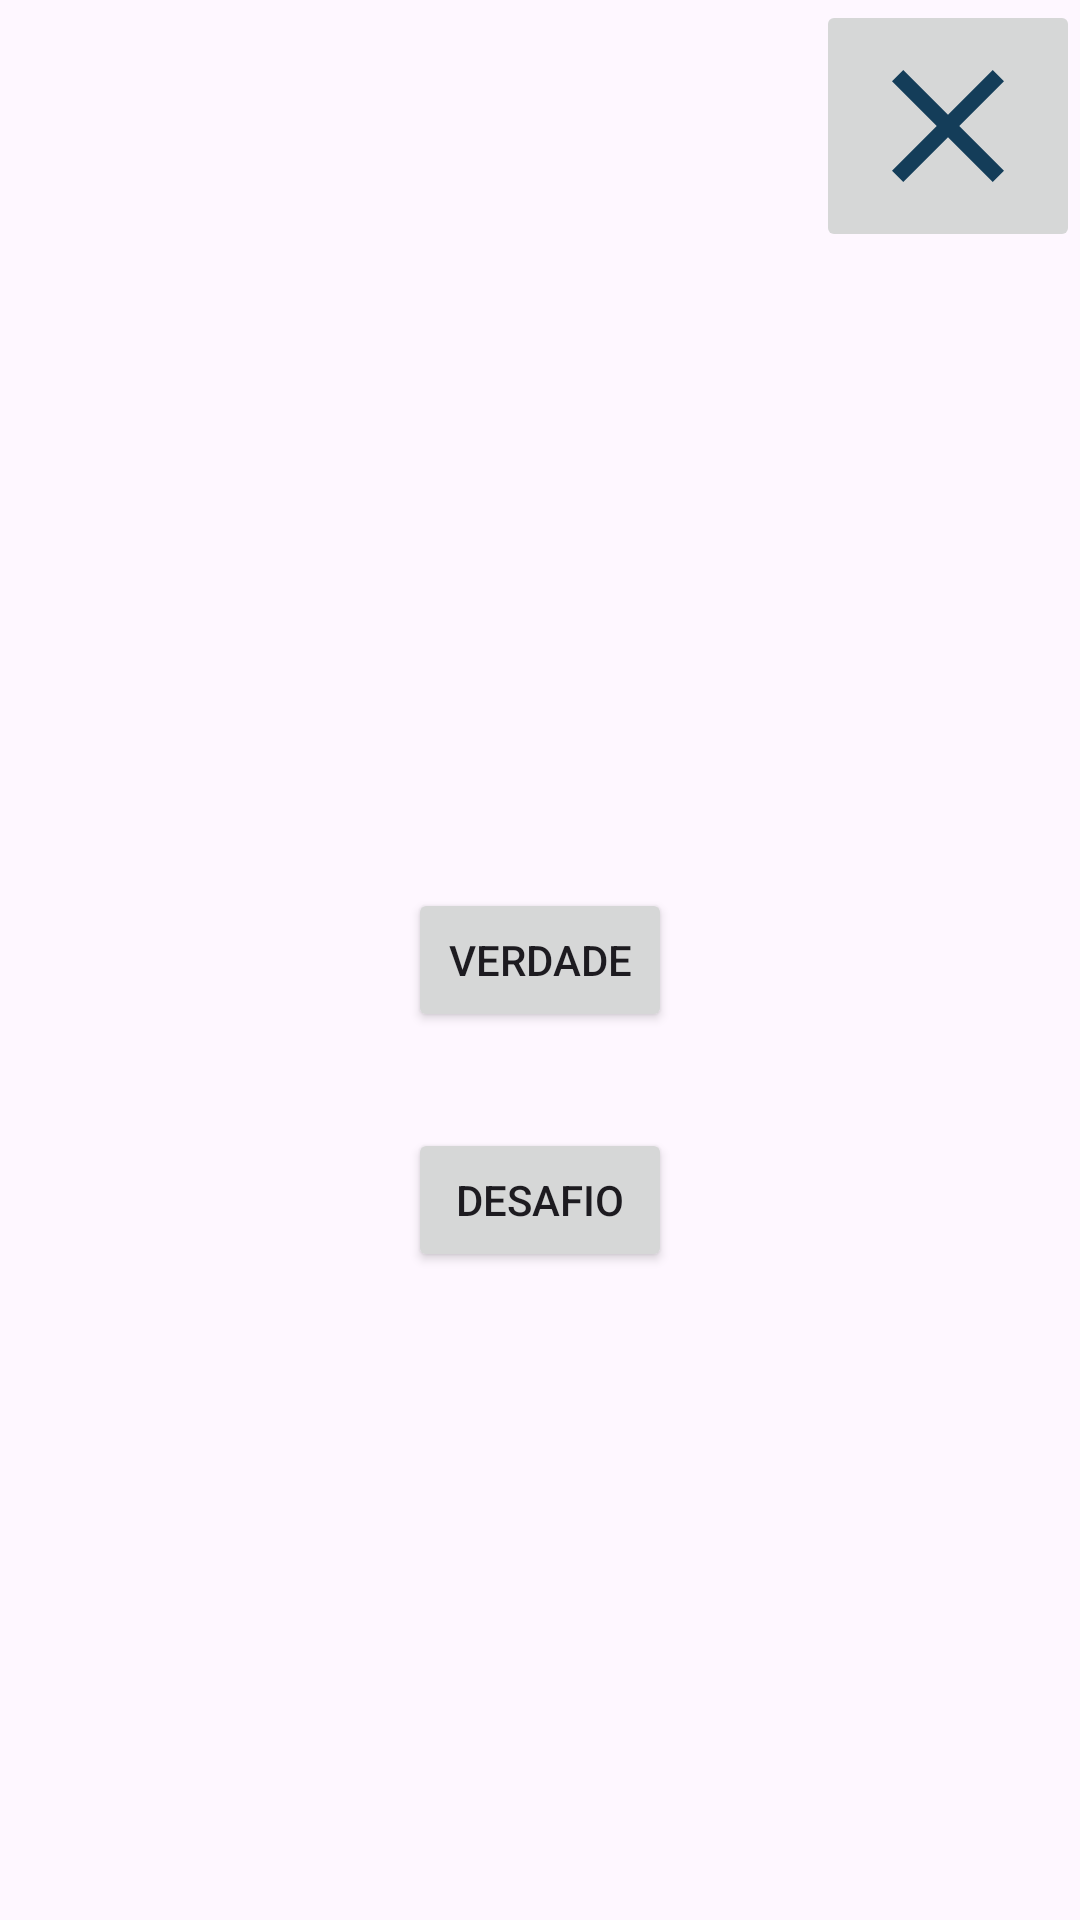

Where to tap for icons on this 1080×1920 app screen, as (x=x, y=y):
close: (x=948, y=126)
